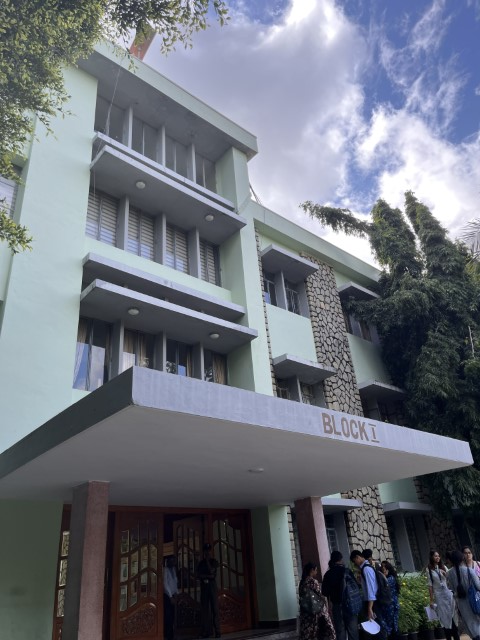Block 1: (51, 45, 480, 554)
